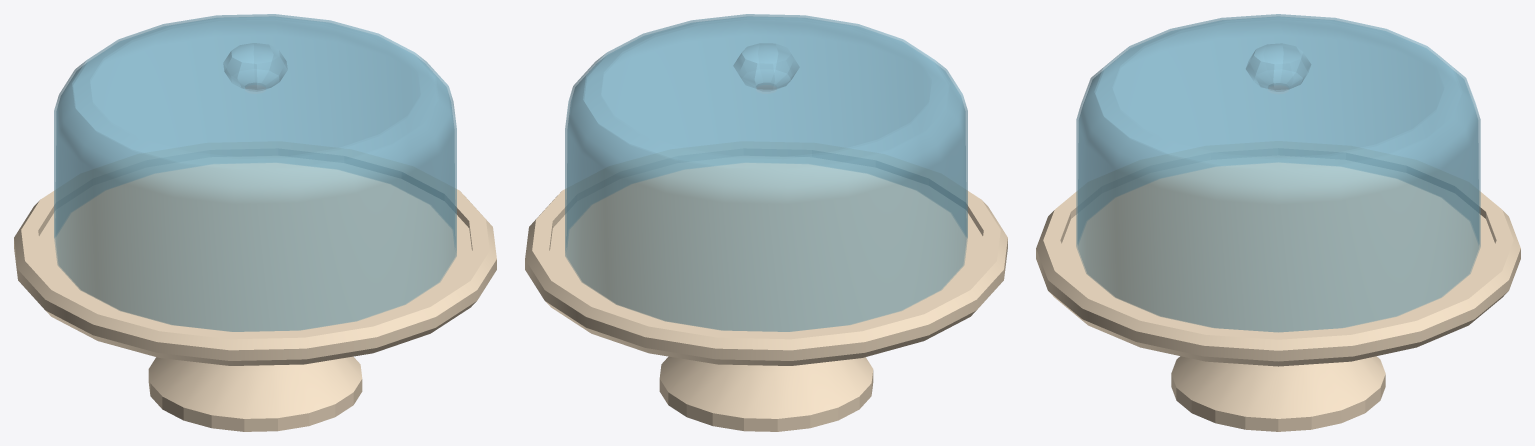
Rendered from PW_display04.fbx.
3 views of the same model, side by side, from view 1: azimuth 30°, elevation 25°; view 2: azimuth 150°, elevation 25°; view 3: azimuth 270°, elevation 25° (orthographic).
Visible parts, largest first — view 1: glass, plate; view 2: glass, plate; view 3: glass, plate.
Part boxes in pixels (x1=…): glass: x1=54, y1=14, x2=456, y2=331; plate: x1=14, y1=142, x2=496, y2=431; glass: x1=565, y1=14, x2=967, y2=331; plate: x1=525, y1=142, x2=1007, y2=431; glass: x1=1076, y1=14, x2=1480, y2=332; plate: x1=1036, y1=141, x2=1520, y2=431.
Bounding box in the file's own units: 60.05 × 46.48 × 60.05.
2 materials, 1 textured.
